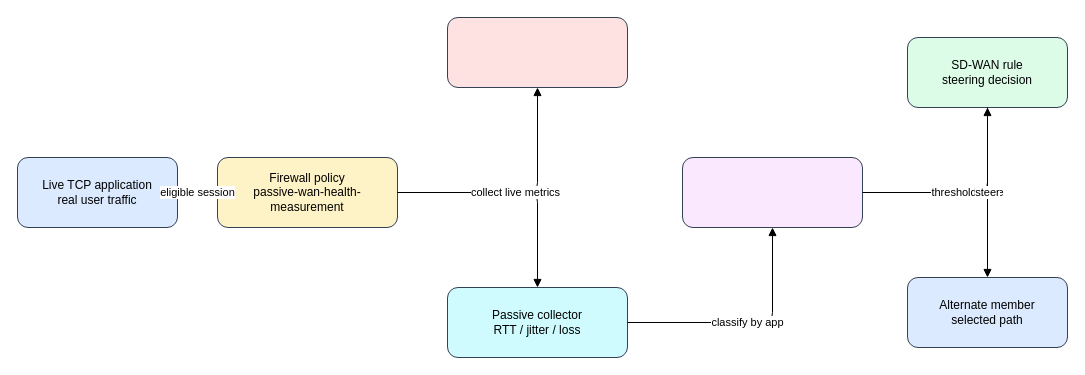
Image size: 1085x375. Some labels were removed from this diagram. Each missing label, with the box of its shape:
CPU observation ASIC offload disabled: (446, 16, 628, 88)
Per-application SLA application / ISDB: (682, 156, 862, 228)
